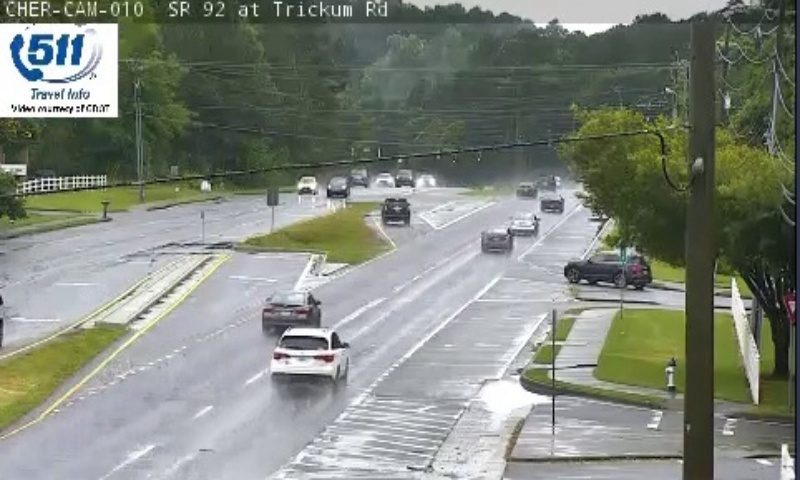car: (272, 326, 346, 380), (261, 288, 321, 330), (480, 225, 513, 254), (382, 196, 411, 221), (507, 211, 536, 234)
